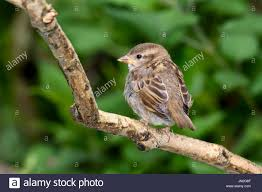hsparrow: (111, 41, 201, 136)
